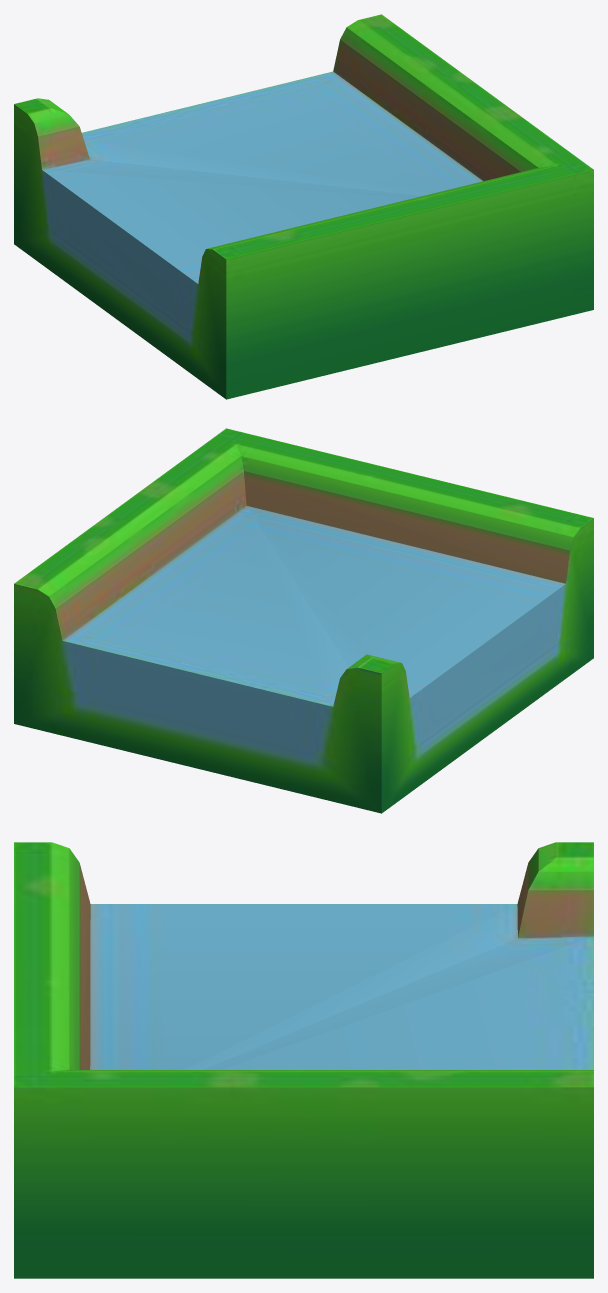
Rendered from creek_corner.glb.
3 renders of one model, top to bottom at view 1: azimuth 30°, elevation 25°; view 2: azimuth 150°, elevation 25°; view 3: azimuth 270°, elevation 25°, orthographic. The views are drawn at different scales.
Parts seen in each view (by area): view 1: creek_corner; view 2: creek_corner; view 3: creek_corner.
Boxes of the visible parts, left/top/right/bottom form: creek_corner: left=14, top=14, right=593, bottom=399; creek_corner: left=14, top=428, right=593, bottom=813; creek_corner: left=14, top=842, right=593, bottom=1278.
Bounding box in the file's own units: 2 × 0.7285 × 2.
1 material, 1 textured.
